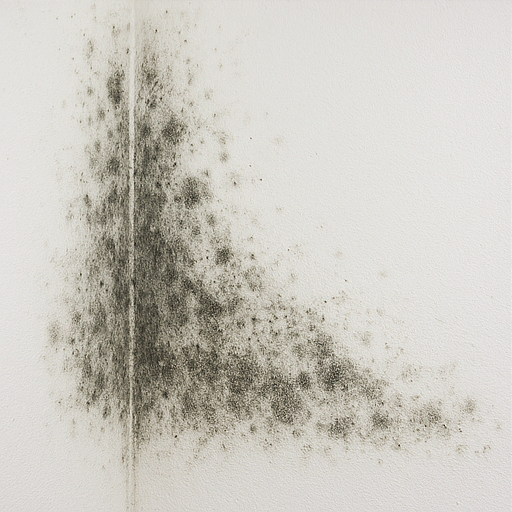schimmel: (198, 304, 373, 426), (101, 66, 129, 428), (140, 100, 167, 425), (170, 233, 189, 414), (174, 176, 214, 212)
